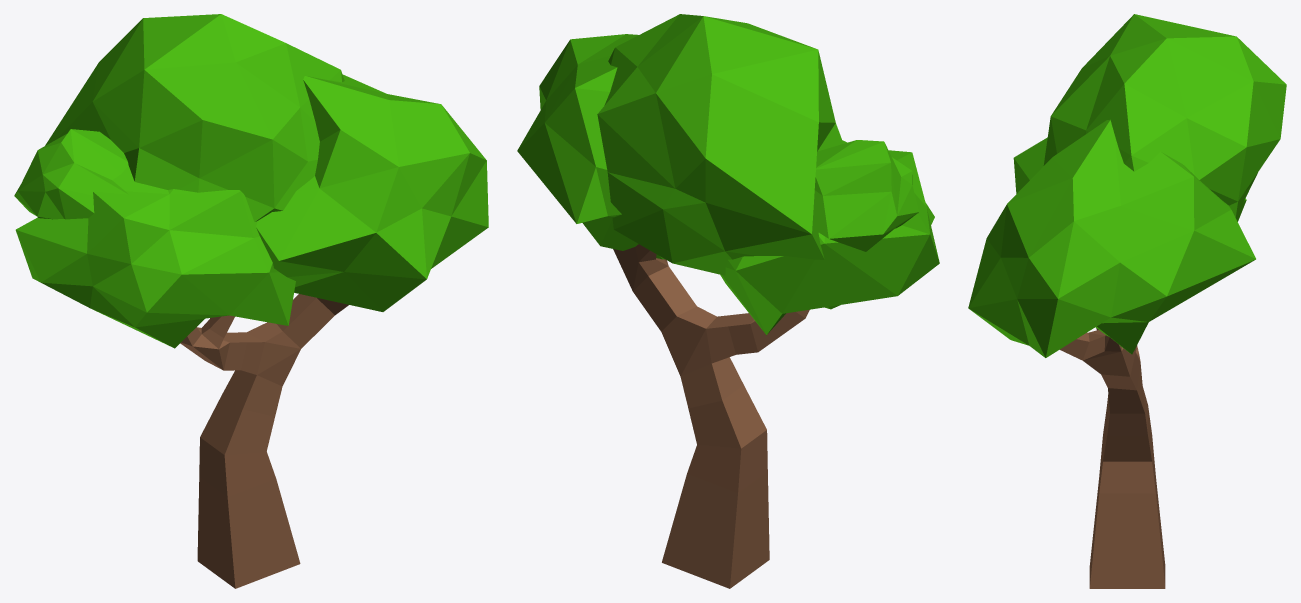
The model's file is Tree_2.fbx.
3 views of the same model, side by side, from view 1: azimuth 30°, elevation 25°; view 2: azimuth 150°, elevation 25°; view 3: azimuth 270°, elevation 25° (orthographic). The views are drawn at different scales.
Parts seen in each view (by area): view 1: 平面; view 2: 平面; view 3: 平面.
Part boxes in pixels (<box>): 平面: <box>14,14,488,588</box>; 平面: <box>517,14,939,588</box>; 平面: <box>968,14,1286,588</box>.
Size of the model in its own units: 519 by 636 by 340.
